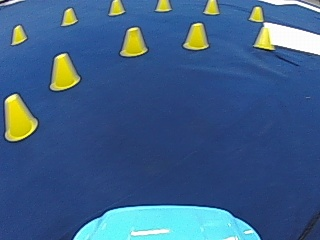cone: (2, 92, 37, 141), (49, 51, 80, 90), (119, 26, 148, 56), (182, 22, 209, 50), (253, 26, 272, 49), (10, 24, 27, 44), (61, 7, 77, 25), (248, 5, 263, 22), (108, 0, 124, 15), (203, 0, 219, 15), (155, 0, 170, 12)
